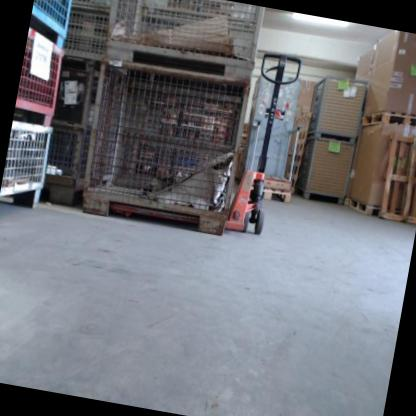pallet: (375, 132, 416, 225), (282, 108, 312, 197), (359, 104, 416, 137), (346, 197, 387, 219), (258, 185, 292, 205)
pallet_truck: (220, 45, 306, 240)
stillage: (76, 60, 248, 237), (102, 0, 263, 84), (0, 114, 58, 220), (13, 21, 71, 125), (305, 72, 368, 143), (36, 124, 89, 206), (296, 135, 356, 207), (52, 1, 107, 58), (27, 0, 76, 52), (67, 0, 111, 10)
